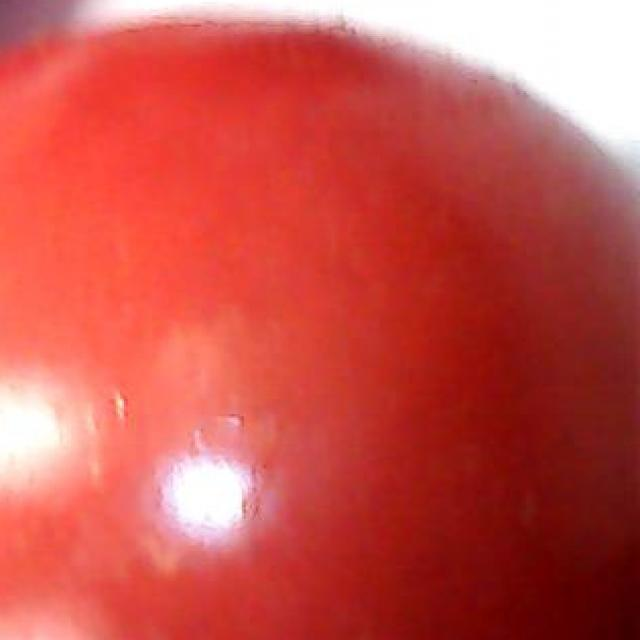Healthy: (2, 10, 639, 640)
